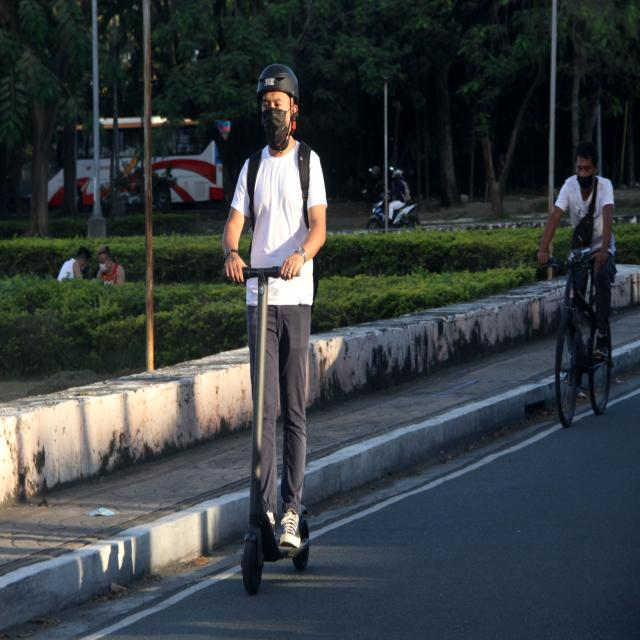helmet: (199, 45, 357, 597)
